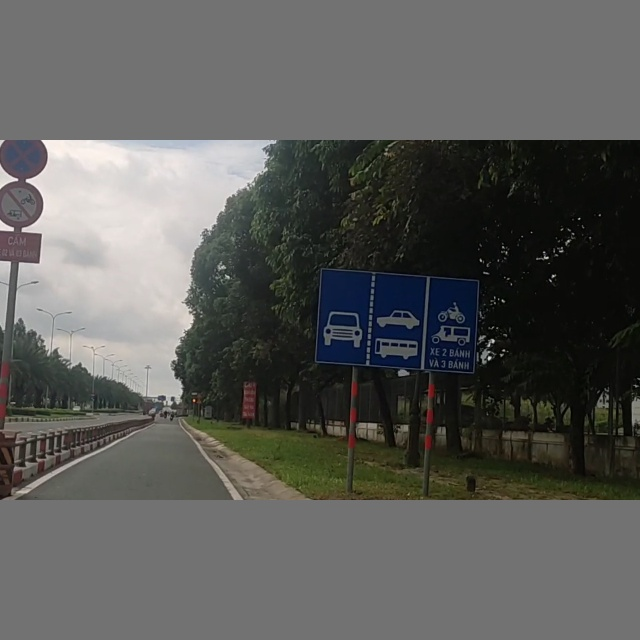R.415a: (318, 272, 475, 375)
